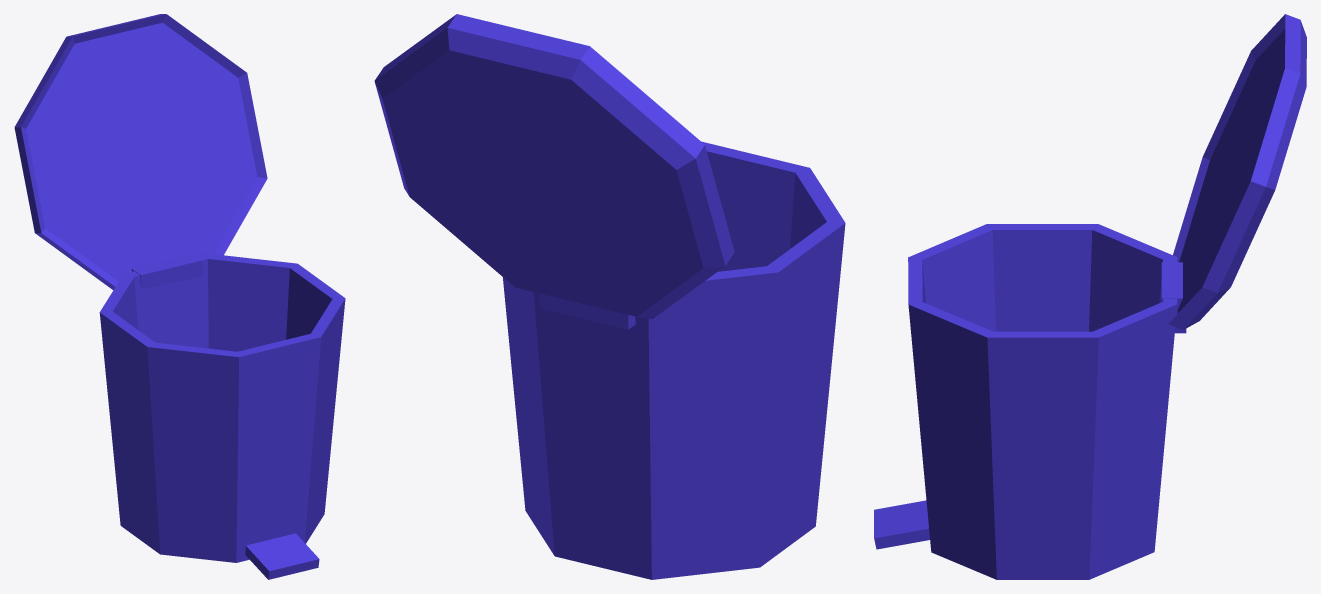
The model's file is trashcan.fbx.
3 views of the same model, side by side, from view 1: azimuth 30°, elevation 25°; view 2: azimuth 150°, elevation 25°; view 3: azimuth 270°, elevation 25° (orthographic). The views are drawn at different scales.
Parts seen in each view (by area): view 1: Cylinder, Lid; view 2: Cylinder, Lid; view 3: Cylinder, Lid.
Boxes of the visible parts, bbox=[...] form: Cylinder: bbox=[99, 253, 345, 579]; Lid: bbox=[14, 14, 267, 290]; Cylinder: bbox=[502, 141, 845, 579]; Lid: bbox=[374, 14, 734, 319]; Cylinder: bbox=[874, 224, 1186, 579]; Lid: bbox=[1168, 14, 1306, 329].
Size of the model in its own units: 254 by 452 by 358.
